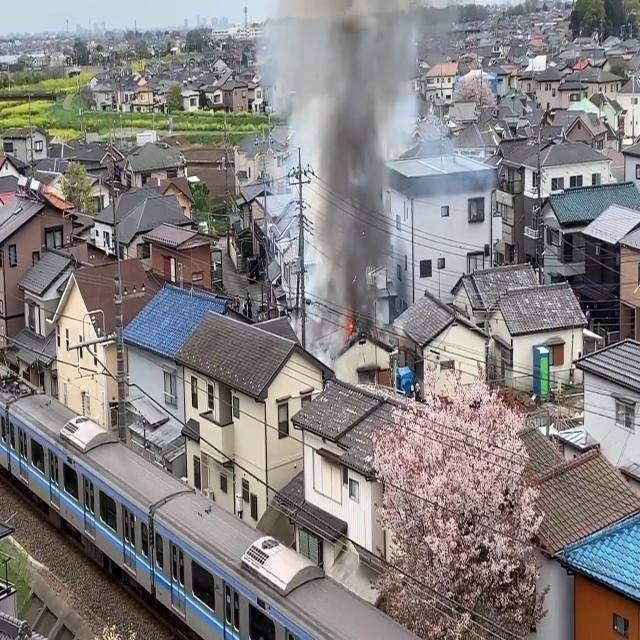Smoke: (283, 0, 413, 324)
